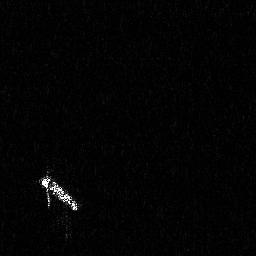ship: (37, 168, 81, 211)
